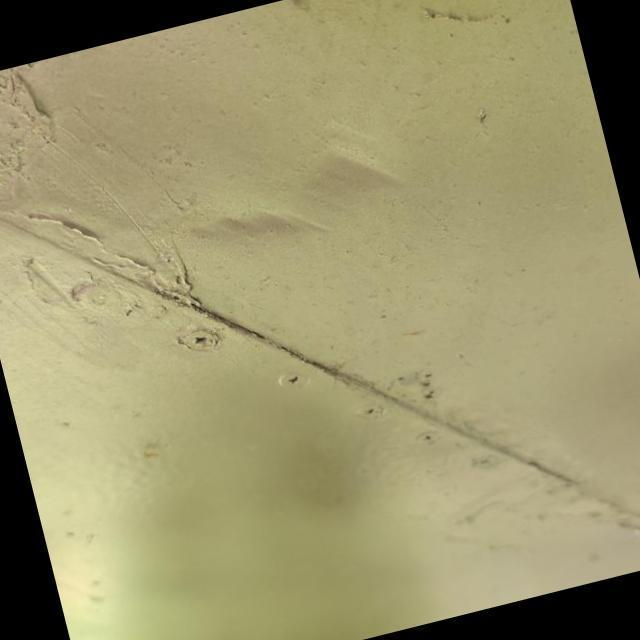Dent: (158, 97, 432, 290)
